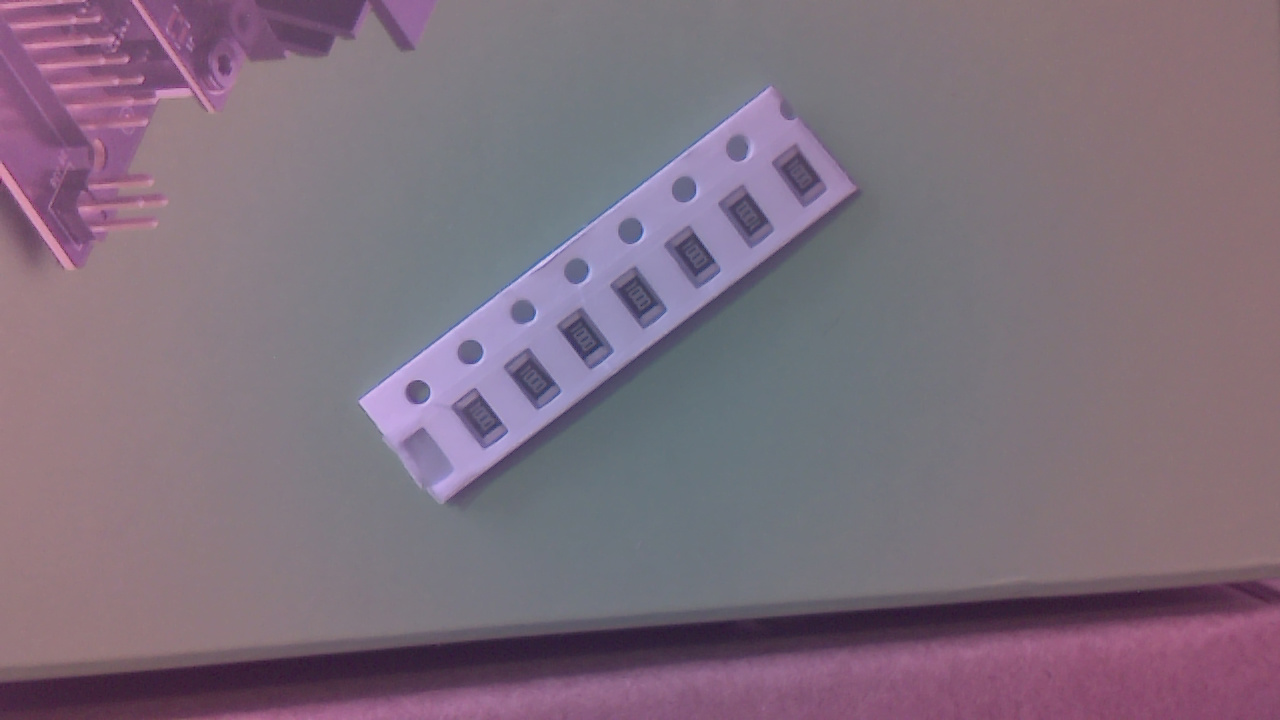Resistor: (506, 351, 567, 415), (454, 391, 514, 456), (615, 271, 675, 336), (669, 230, 727, 294), (723, 190, 780, 253), (563, 312, 619, 375), (779, 150, 832, 212)
